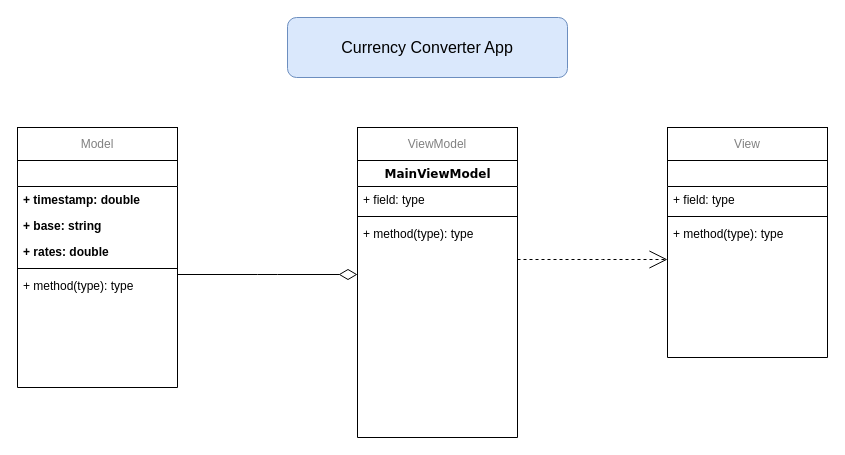
The diagram is 845 pixels wide and 455 high, and some of its shapes have lost their labels. Here are the shapes that lost their labels. From the top down, the box of each, then its label:
(16, 160, 178, 388): CurrencyData
(666, 160, 828, 358): MainView
